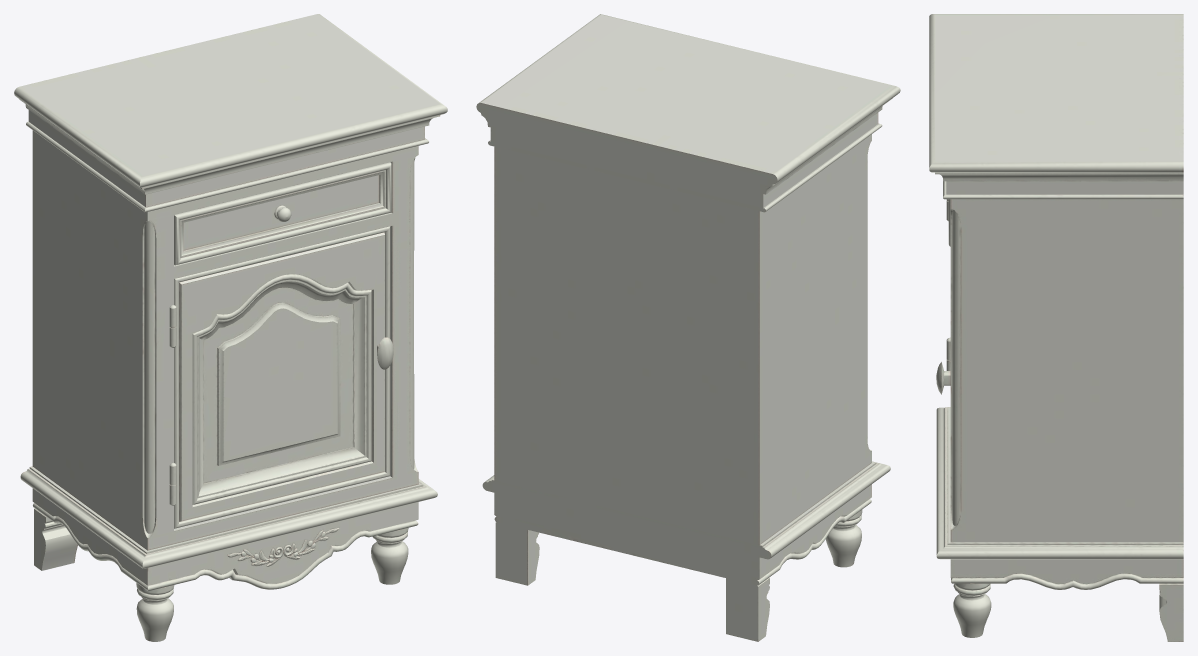
File: example173.gltf
The picture shows the model from 3 angles, left to right: view 1: azimuth 30°, elevation 25°; view 2: azimuth 150°, elevation 25°; view 3: azimuth 270°, elevation 25°; orthographic projection. The views are drawn at different scales.
Size of the model in its own units: 46.8 by 70 by 33.1.
Materials: 1 (1 with a texture image).
